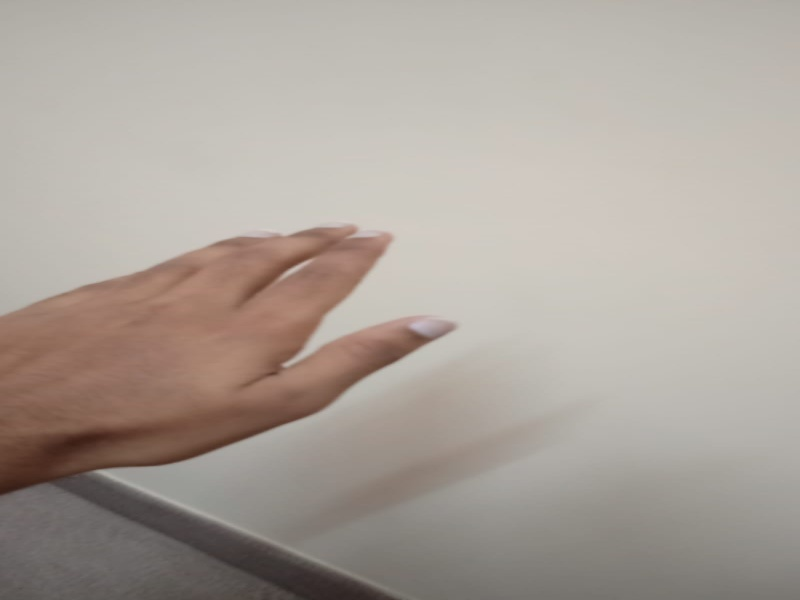Hand: (3, 207, 471, 500)
